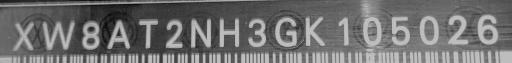letter: (41, 18, 75, 51), (272, 14, 298, 49), (106, 17, 132, 52), (189, 15, 213, 52), (302, 14, 328, 47), (216, 16, 242, 49), (12, 18, 36, 53), (476, 12, 498, 49), (445, 13, 469, 46), (360, 14, 384, 47), (136, 17, 160, 50), (418, 12, 440, 45), (388, 14, 410, 47), (162, 17, 184, 50), (80, 19, 102, 52), (245, 17, 267, 48), (335, 15, 351, 46)
